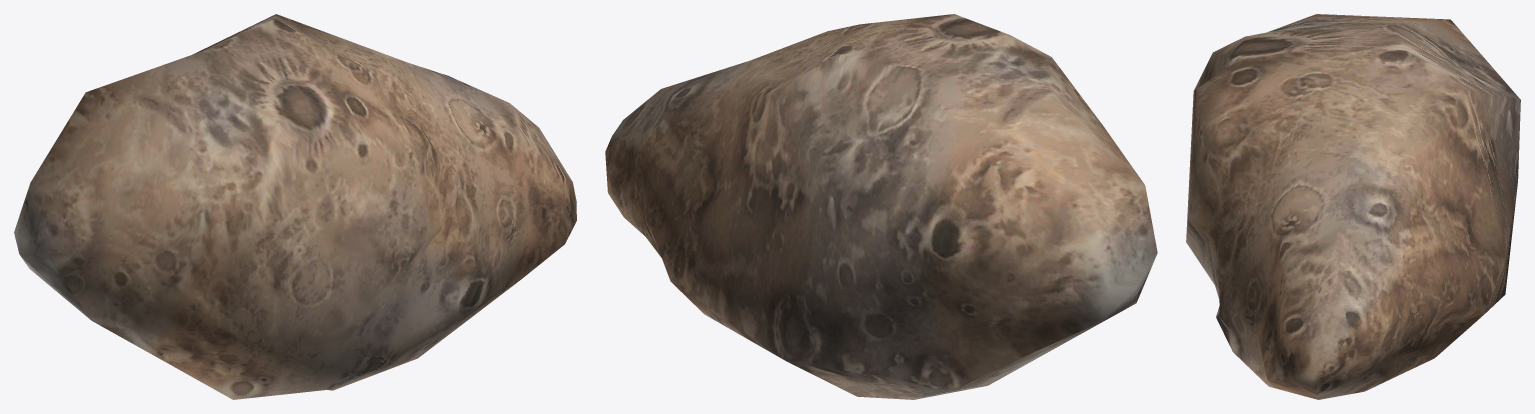
File: asteroid_set_01_04.glb
3 renders of one model, left to right at view 1: azimuth 30°, elevation 25°; view 2: azimuth 150°, elevation 25°; view 3: azimuth 270°, elevation 25°, orthographic. The views are drawn at different scales.
Visible parts, largest first — view 1: Asteroid_04_LOD0; view 2: Asteroid_04_LOD0; view 3: Asteroid_04_LOD0.
Boxes of the visible parts, left/top/right/bottom form: Asteroid_04_LOD0: left=14, top=14, right=576, bottom=399; Asteroid_04_LOD0: left=605, top=14, right=1157, bottom=399; Asteroid_04_LOD0: left=1186, top=14, right=1520, bottom=399.
Size of what is drawn, in the model's own units: 6.13 by 3.72 by 3.47.
Materials: 1 (1 with a texture image).
